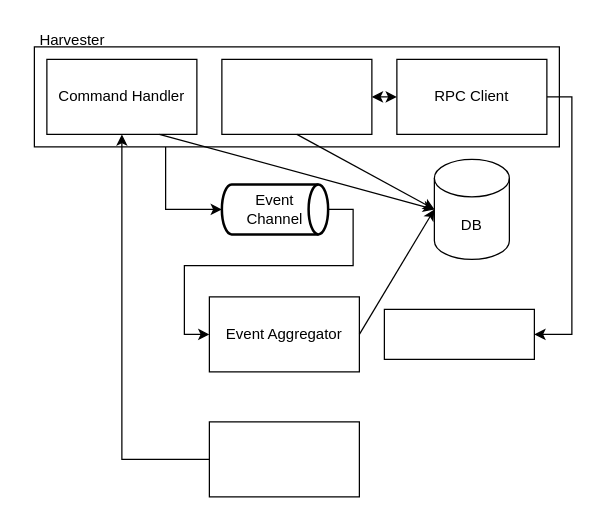
This 604x519 diagram has some shape labels left out. The centre of each missing label's shape, as x and y in pixels:
Block Processor: the point at 296,96
BTC RPC Node: the point at 458,333
Web Server: the point at 283,459
